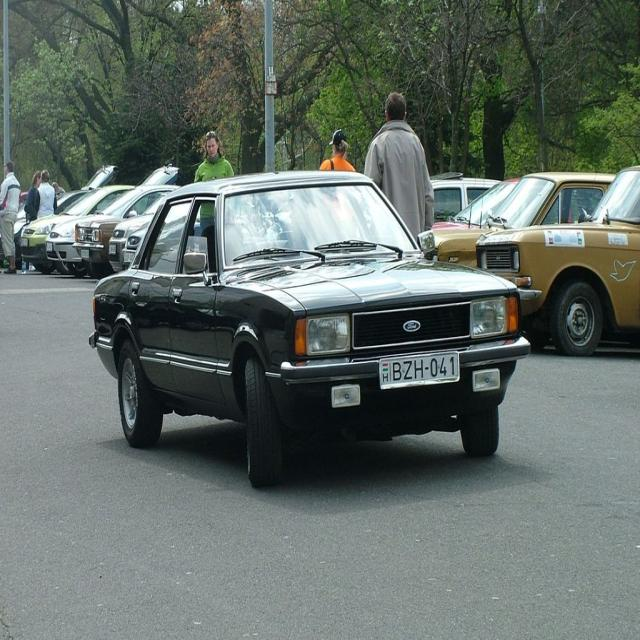car: (77, 161, 532, 480)
